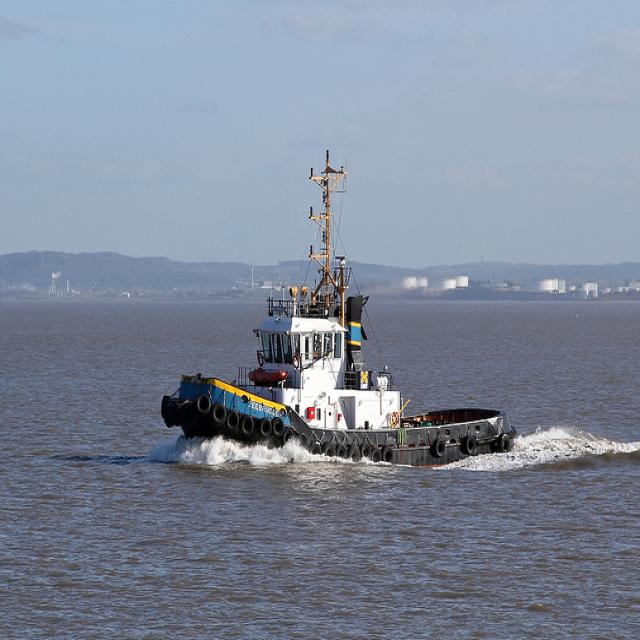fishing boat: (162, 161, 506, 467)
